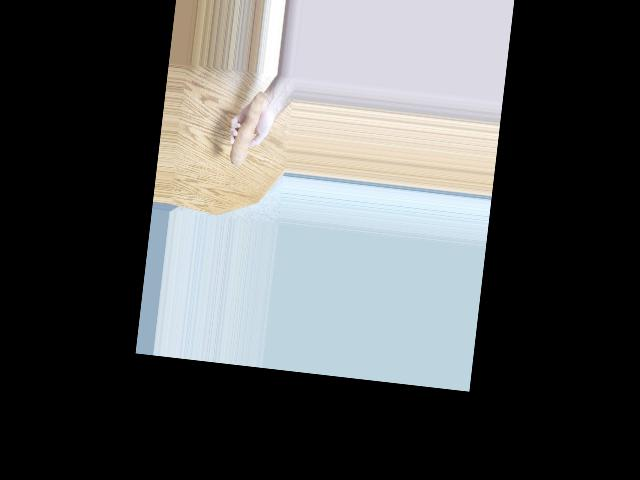sweet_potato: (227, 91, 263, 170)
